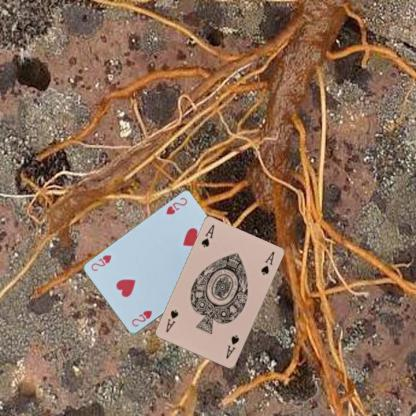2h: (163, 195, 188, 216), (129, 308, 153, 328)
As: (198, 222, 216, 249), (224, 333, 240, 360)
